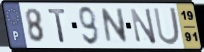8: (24, 7, 46, 44)
9: (78, 5, 102, 48)
N: (129, 7, 159, 46), (100, 7, 130, 45)
T: (47, 8, 68, 44)
U: (152, 6, 182, 47)
